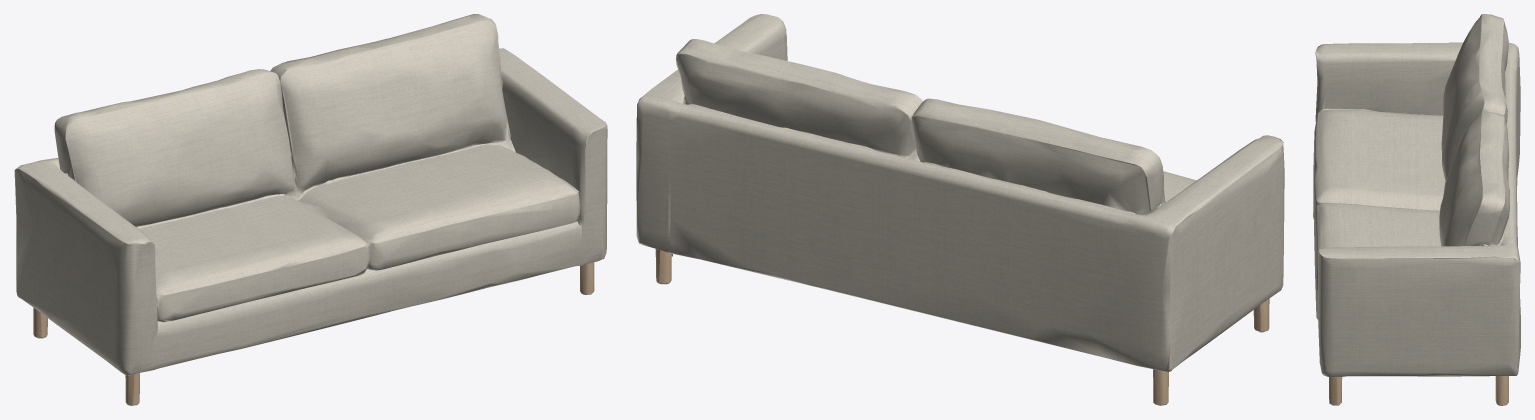
The model's file is parup.glb.
3 views of the same model, side by side, from view 1: azimuth 30°, elevation 25°; view 2: azimuth 150°, elevation 25°; view 3: azimuth 270°, elevation 25° (orthographic). The views are drawn at different scales.
Parts seen in each view (by area): view 1: ProcessedMeshNode; view 2: ProcessedMeshNode; view 3: ProcessedMeshNode.
Part boxes in pixels (x1=…): ProcessedMeshNode: x1=14, y1=14, x2=607, y2=405; ProcessedMeshNode: x1=636, y1=14, x2=1284, y2=405; ProcessedMeshNode: x1=1313, y1=14, x2=1520, y2=405.
Size of the model in its own units: 2.07 by 0.8818 by 0.8348.
Materials: 2 (2 with a texture image).
